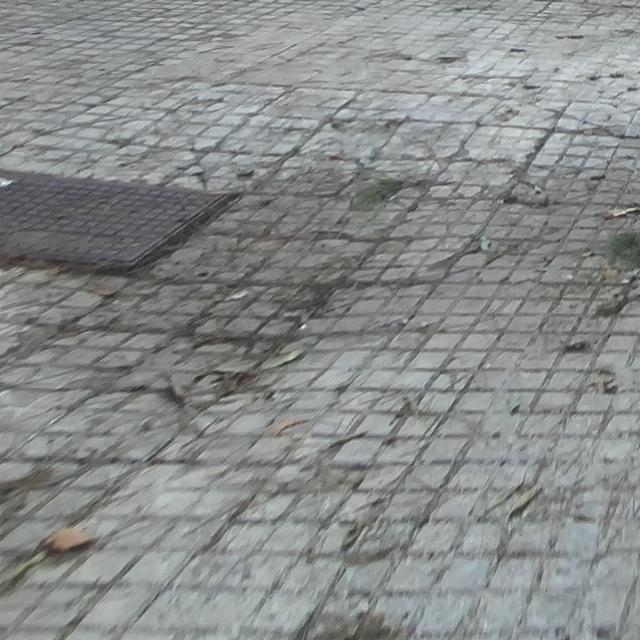calcada_quebrada: (352, 240, 525, 309), (0, 113, 137, 166), (525, 96, 639, 141), (0, 362, 82, 404), (164, 151, 218, 192)
